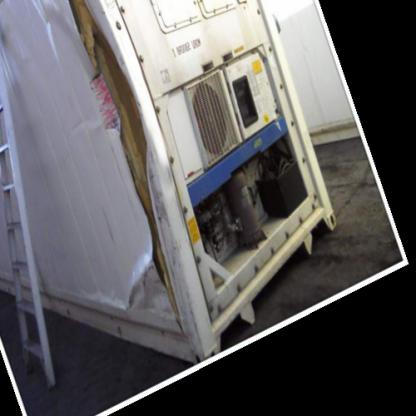Damage: (70, 1, 204, 334)
